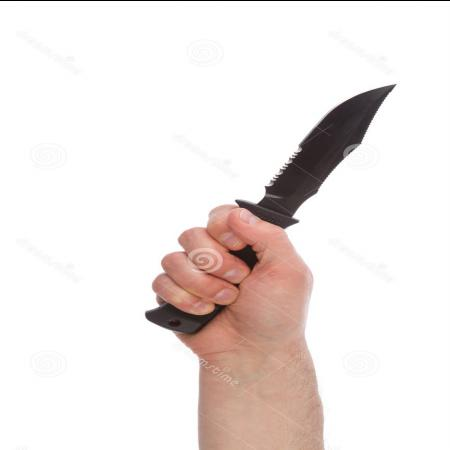long weapon: (169, 76, 405, 306)
